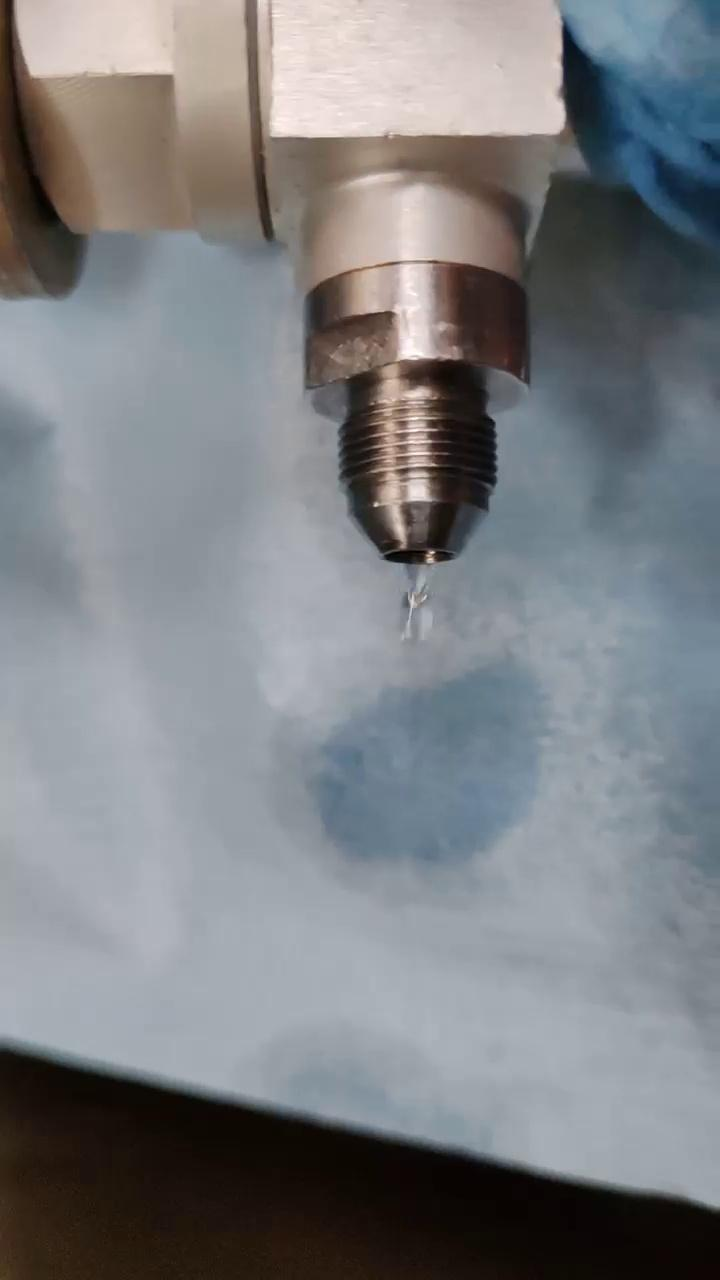water drop: (397, 552, 436, 646)
